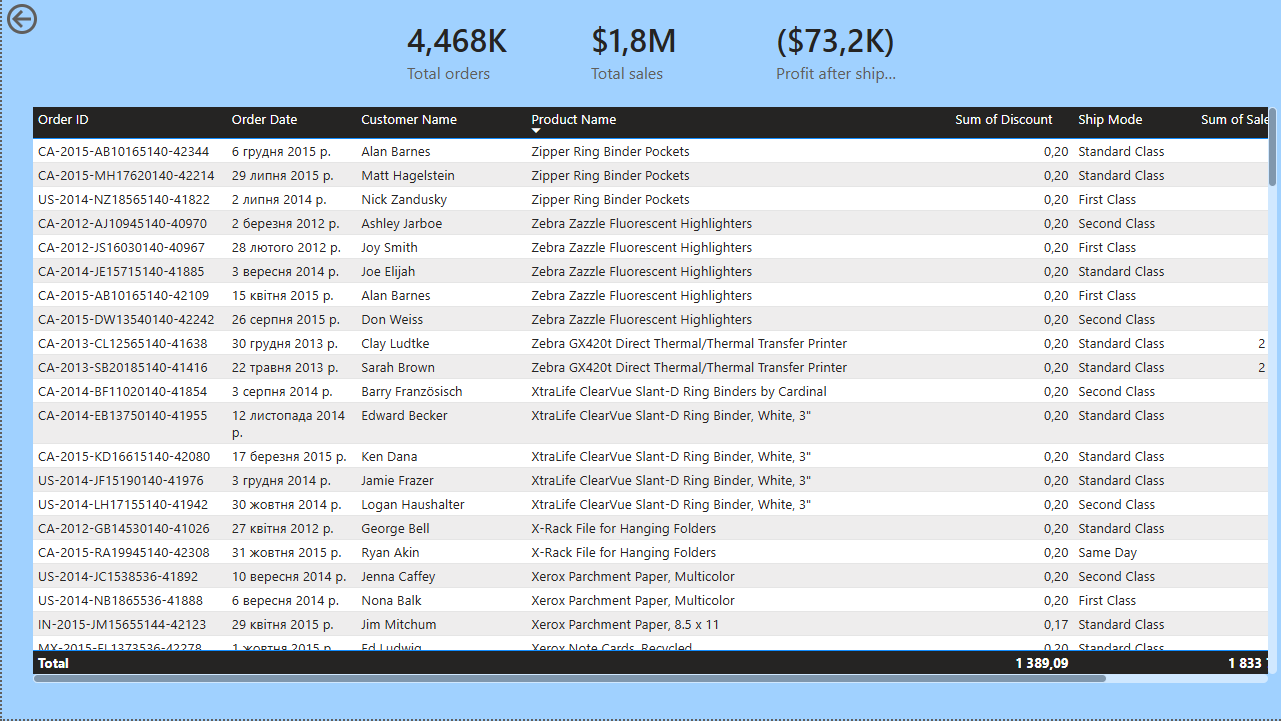

The dashboard page shown, as its layout file describes it:
{"tool":"powerbi","page":{"name":"Page 5: Hidden detail page with orders","canvas":[1280,720],"ordinal":4},"visuals":[{"type":"group","id":"g1","title":"Group 1","box":[376,0,553.3,102.9],"z":0},{"type":"cardVisual","fields":{"Data":["Count(Fact_Orders.Order ID)"]},"box":[376,0,184.4,102.9],"z":0,"group":"g1"},{"type":"cardVisual","fields":{"Data":["_mesures.Ttl_sales"]},"box":[560.4,0,184.4,102.9],"z":1000,"group":"g1"},{"type":"tableEx","fields":{"Values":["Fact_Orders.Order ID","Fact_Orders.Order Date","Dim_Customers.Customer Name","Dim_Product.Product Name","Sum(Fact_Orders.Discount)","Fact_Orders.Ship Mode","Sum(Fact_Orders.Sales)","Sum(Fact_Orders.Profit)"]},"box":[24.8,102.9,1255.6,586.1],"z":1000},{"type":"actionButton","box":[0,0,100,40],"z":2000},{"type":"cardVisual","fields":{"Data":["_mesures.Profit_after_shipping"]},"box":[744.9,0,184.4,102.9],"z":2000,"group":"g1"}]}

Visuals, with their boxes in screenshot pixels (x1, y1, x2, y2), scaled from the page's 1280x720 canvas onto the 1281x721 screenshot:
"Group 1" group: {"left": 376, "top": 0, "right": 930, "bottom": 103}
cardVisual - Count(Fact_Orders.Order ID): {"left": 376, "top": 0, "right": 561, "bottom": 103}
cardVisual - _mesures.Ttl_sales: {"left": 561, "top": 0, "right": 745, "bottom": 103}
tableEx - Fact_Orders.Order ID x Fact_Orders.Order Date: {"left": 25, "top": 103, "right": 1280, "bottom": 690}
actionButton: {"left": 0, "top": 0, "right": 100, "bottom": 40}
cardVisual - _mesures.Profit_after_shipping: {"left": 745, "top": 0, "right": 930, "bottom": 103}
